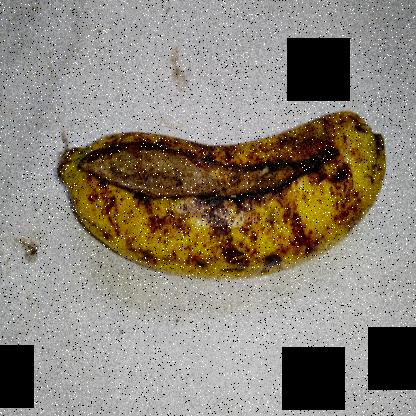rotten: (80, 108, 355, 236)
